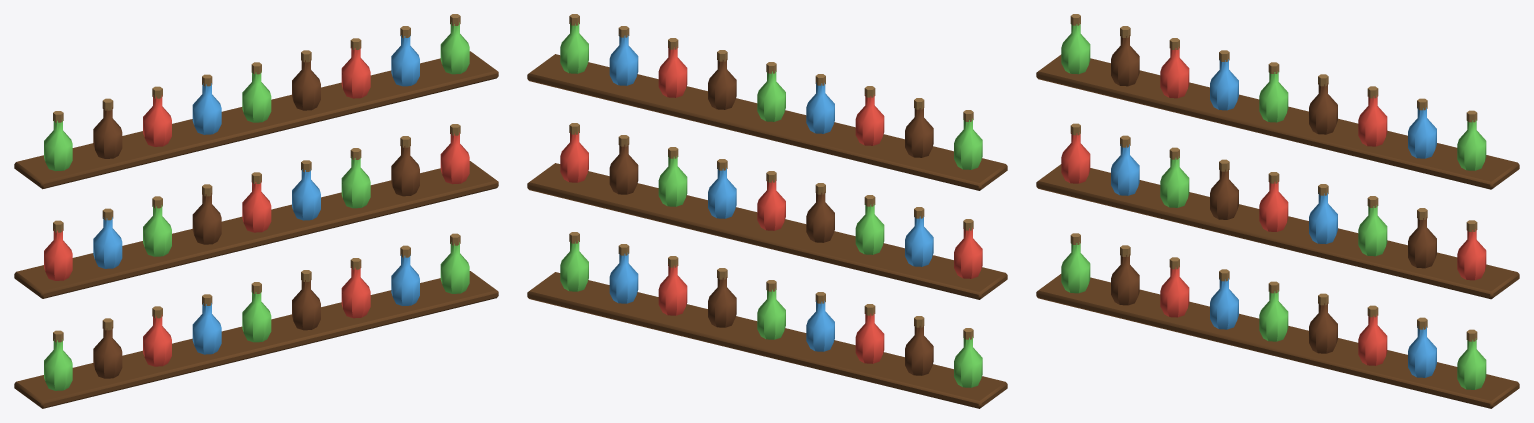
Rendered from potion_shelf.glb.
The picture shows the model from 3 angles, left to right: view 1: azimuth 30°, elevation 25°; view 2: azimuth 150°, elevation 25°; view 3: azimuth 330°, elevation 25°; orthographic projection.
Visible parts, largest first — view 1: potion_shelf; view 2: potion_shelf; view 3: potion_shelf.
Part boxes in pixels (x1,y1,x2,y2): potion_shelf: (14, 14, 498, 408); potion_shelf: (527, 14, 1007, 408); potion_shelf: (1036, 14, 1519, 408).
Bounding box in the file's own units: 2.4 × 1.41 × 0.26.
